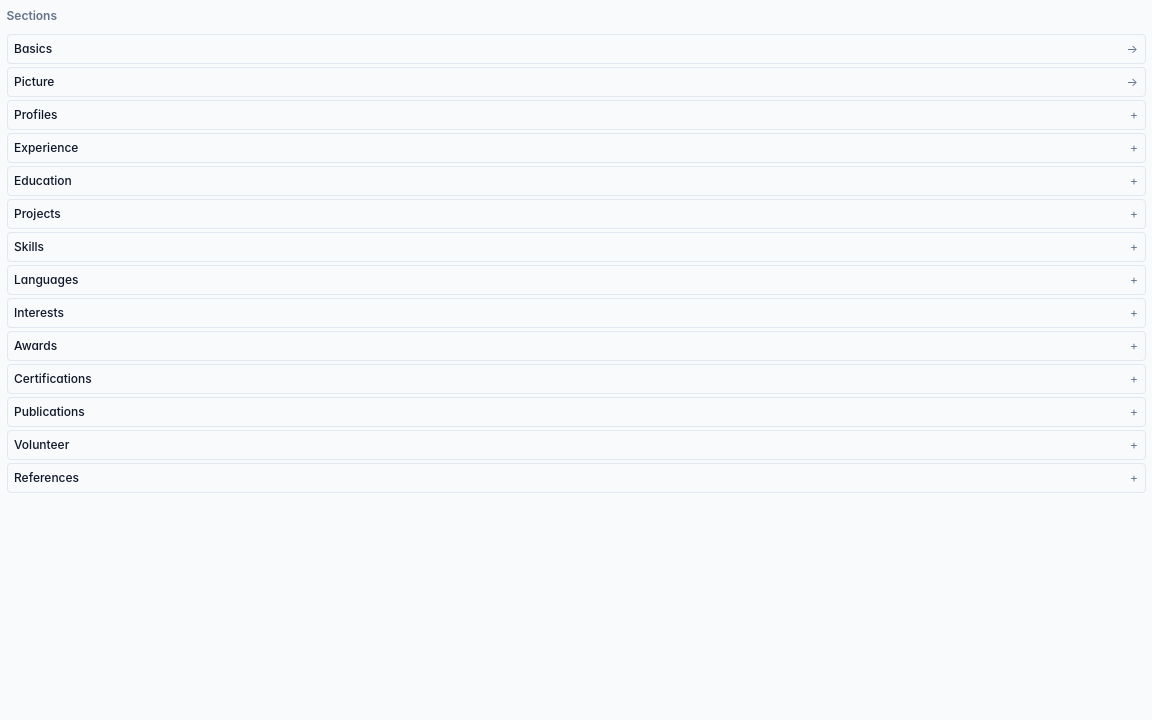
Test: SectionsPanel mounts education/projects/skills lists (US3 AC-01) › projects row exposes SectionList when expanded
Click the button "Projects +": [37, 214] box [8,200,1144,228]
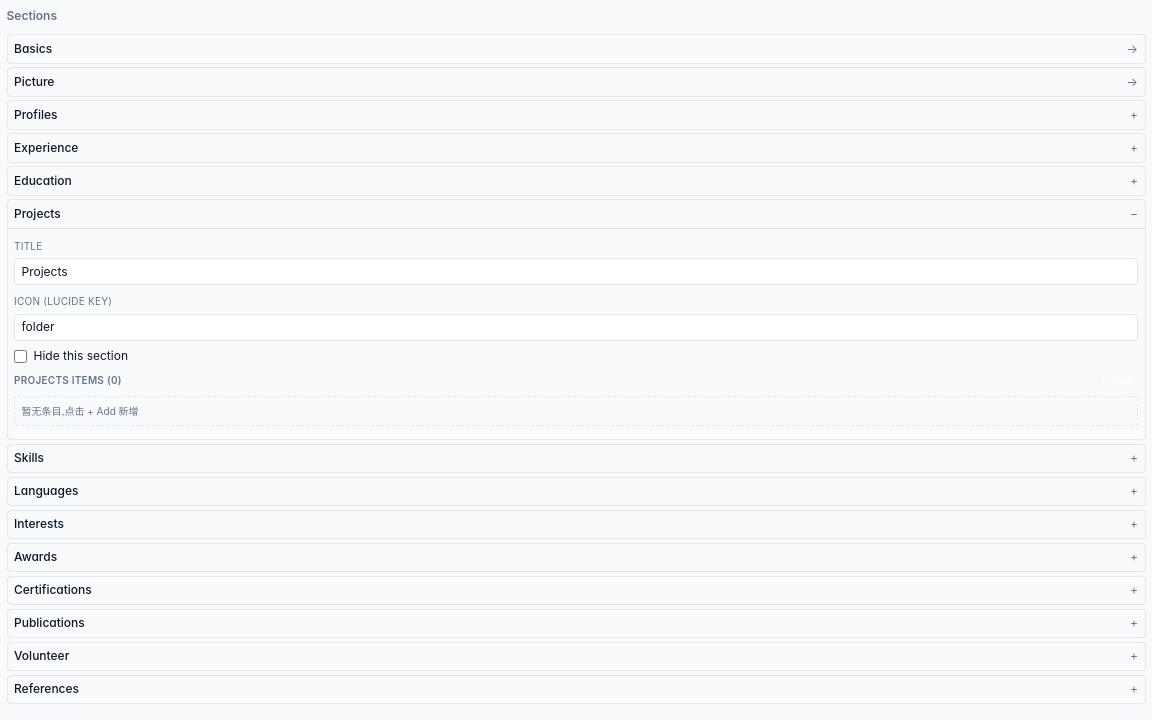
Result: the element with test id "projects-section-list" is shown at [14,372,1138,426]
